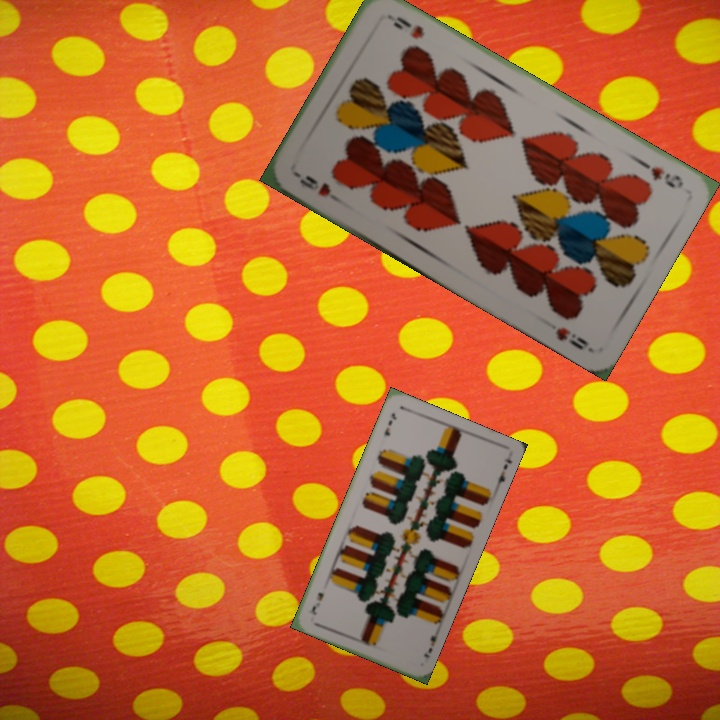E7: (419, 627, 442, 660), (380, 409, 399, 438)
H9: (634, 155, 686, 191), (291, 168, 334, 199)
